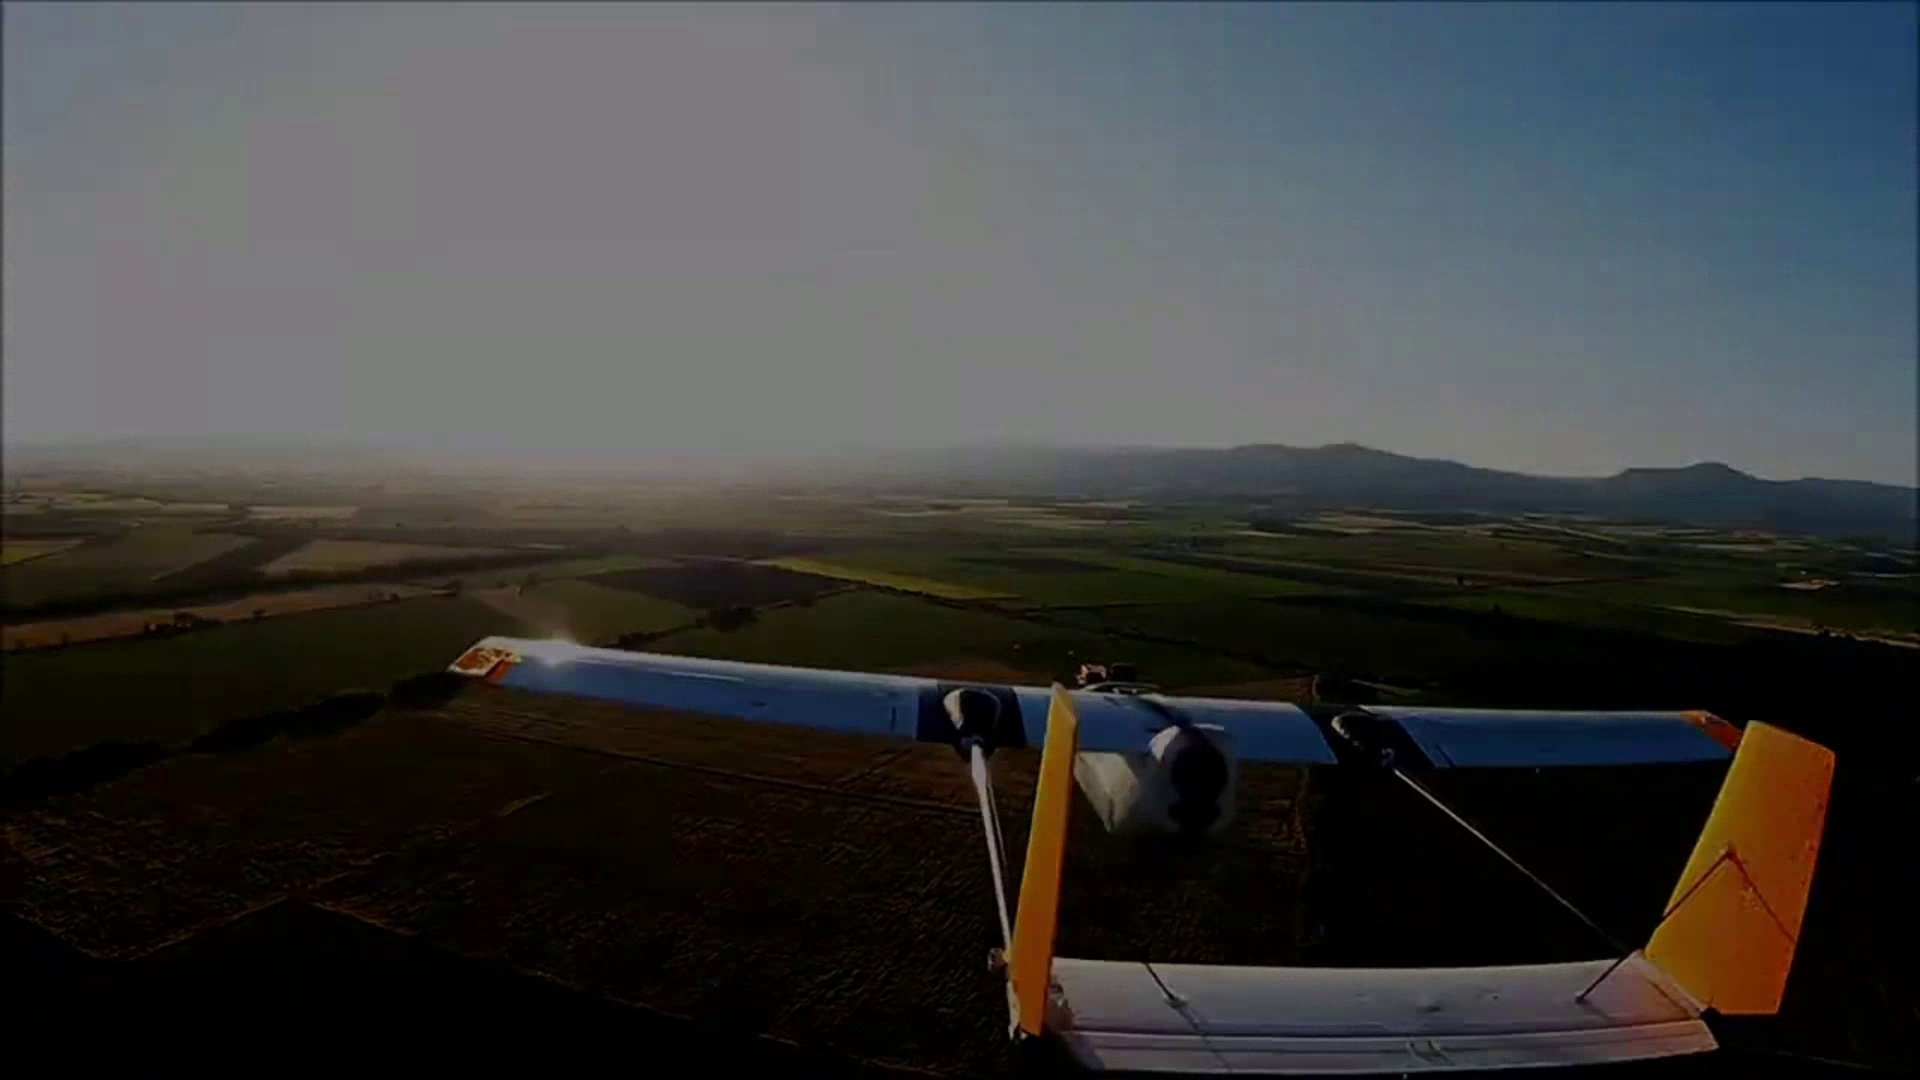airplane: (446, 634, 1865, 1064)
